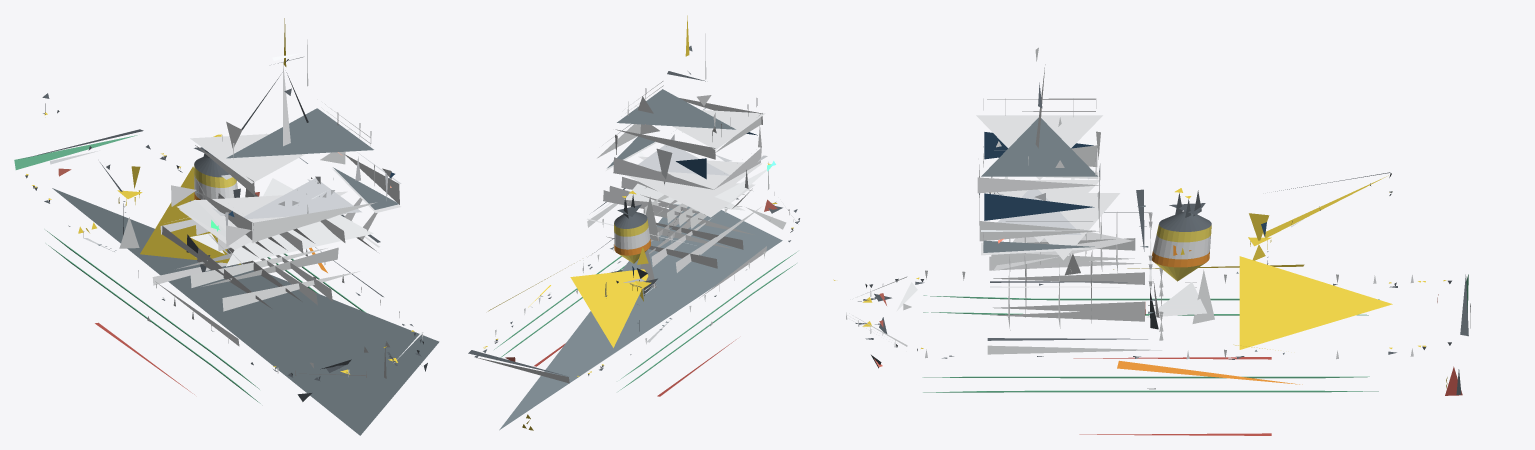
Rendered from ship_05.glb.
3 renders of one model, left to right at view 1: azimuth 30°, elevation 25°; view 2: azimuth 150°, elevation 25°; view 3: azimuth 270°, elevation 25°, orthographic. The views are drawn at different scales.
Parts seen in each view (by area): view 1: TrueHelm_Ship_05; view 2: TrueHelm_Ship_05; view 3: TrueHelm_Ship_05.
Part boxes in pixels (x1,y1,x2,y2): TrueHelm_Ship_05: (14,18,439,435); TrueHelm_Ship_05: (468,15,799,430); TrueHelm_Ship_05: (833,47,1470,435).
Size of the model in its own units: 0.2057 by 0.3032 by 0.4939.
